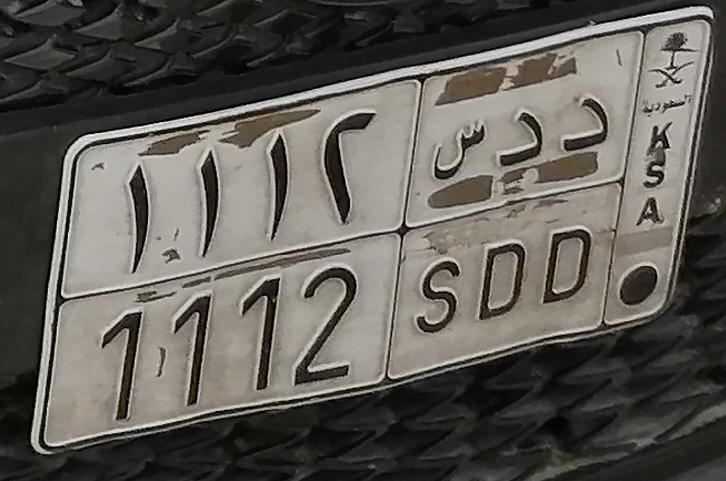1: (166, 142, 228, 410), (232, 131, 292, 393), (99, 160, 157, 425)
2: (292, 109, 379, 387)
D: (544, 95, 612, 309)
S: (412, 123, 487, 337)
